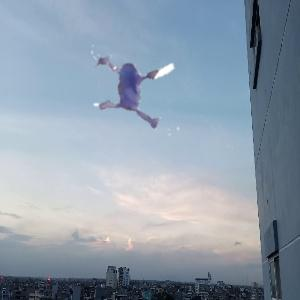drone: (79, 13, 221, 155)
